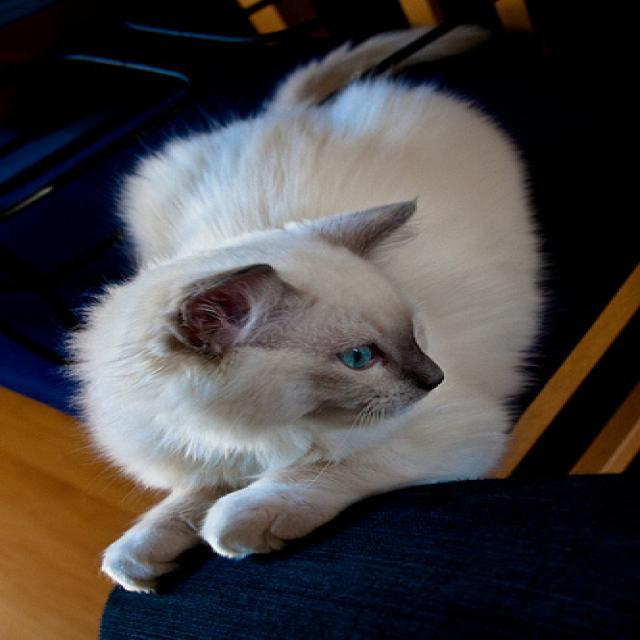Ragdoll: (87, 196, 451, 433)
